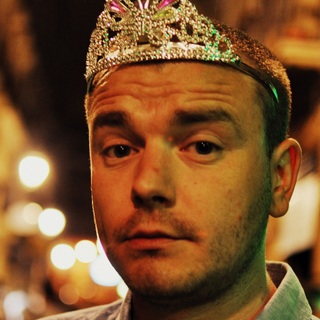eye: (182, 134, 228, 161), (101, 138, 142, 163)
